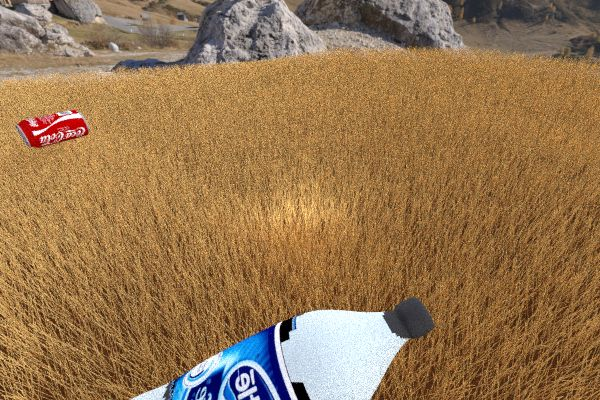bottle: (19, 297, 428, 400)
can: (57, 92, 115, 128), (351, 122, 387, 171)
